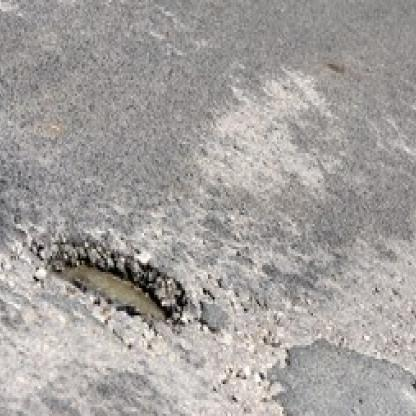pothole: (41, 235, 177, 327)
